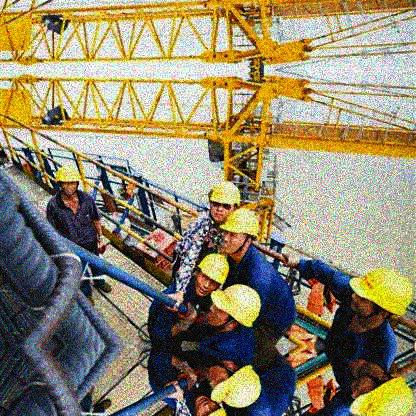helmet: (349, 268, 410, 324), (207, 283, 263, 336), (206, 355, 262, 408), (349, 372, 414, 416), (219, 209, 259, 252), (195, 251, 228, 297), (209, 181, 242, 226), (53, 165, 82, 196)
